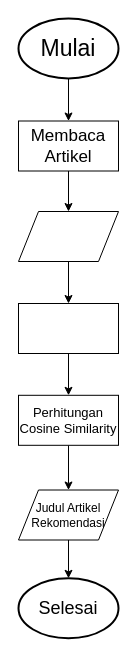
This 136x656 diagram has some shape labels left out. Here are the shapes that lost their labels. From the top down, the centre of each, then its label:
At point (68, 236): "Judul Artikel".
At point (68, 328): "Pembobotan TF-IDF".
